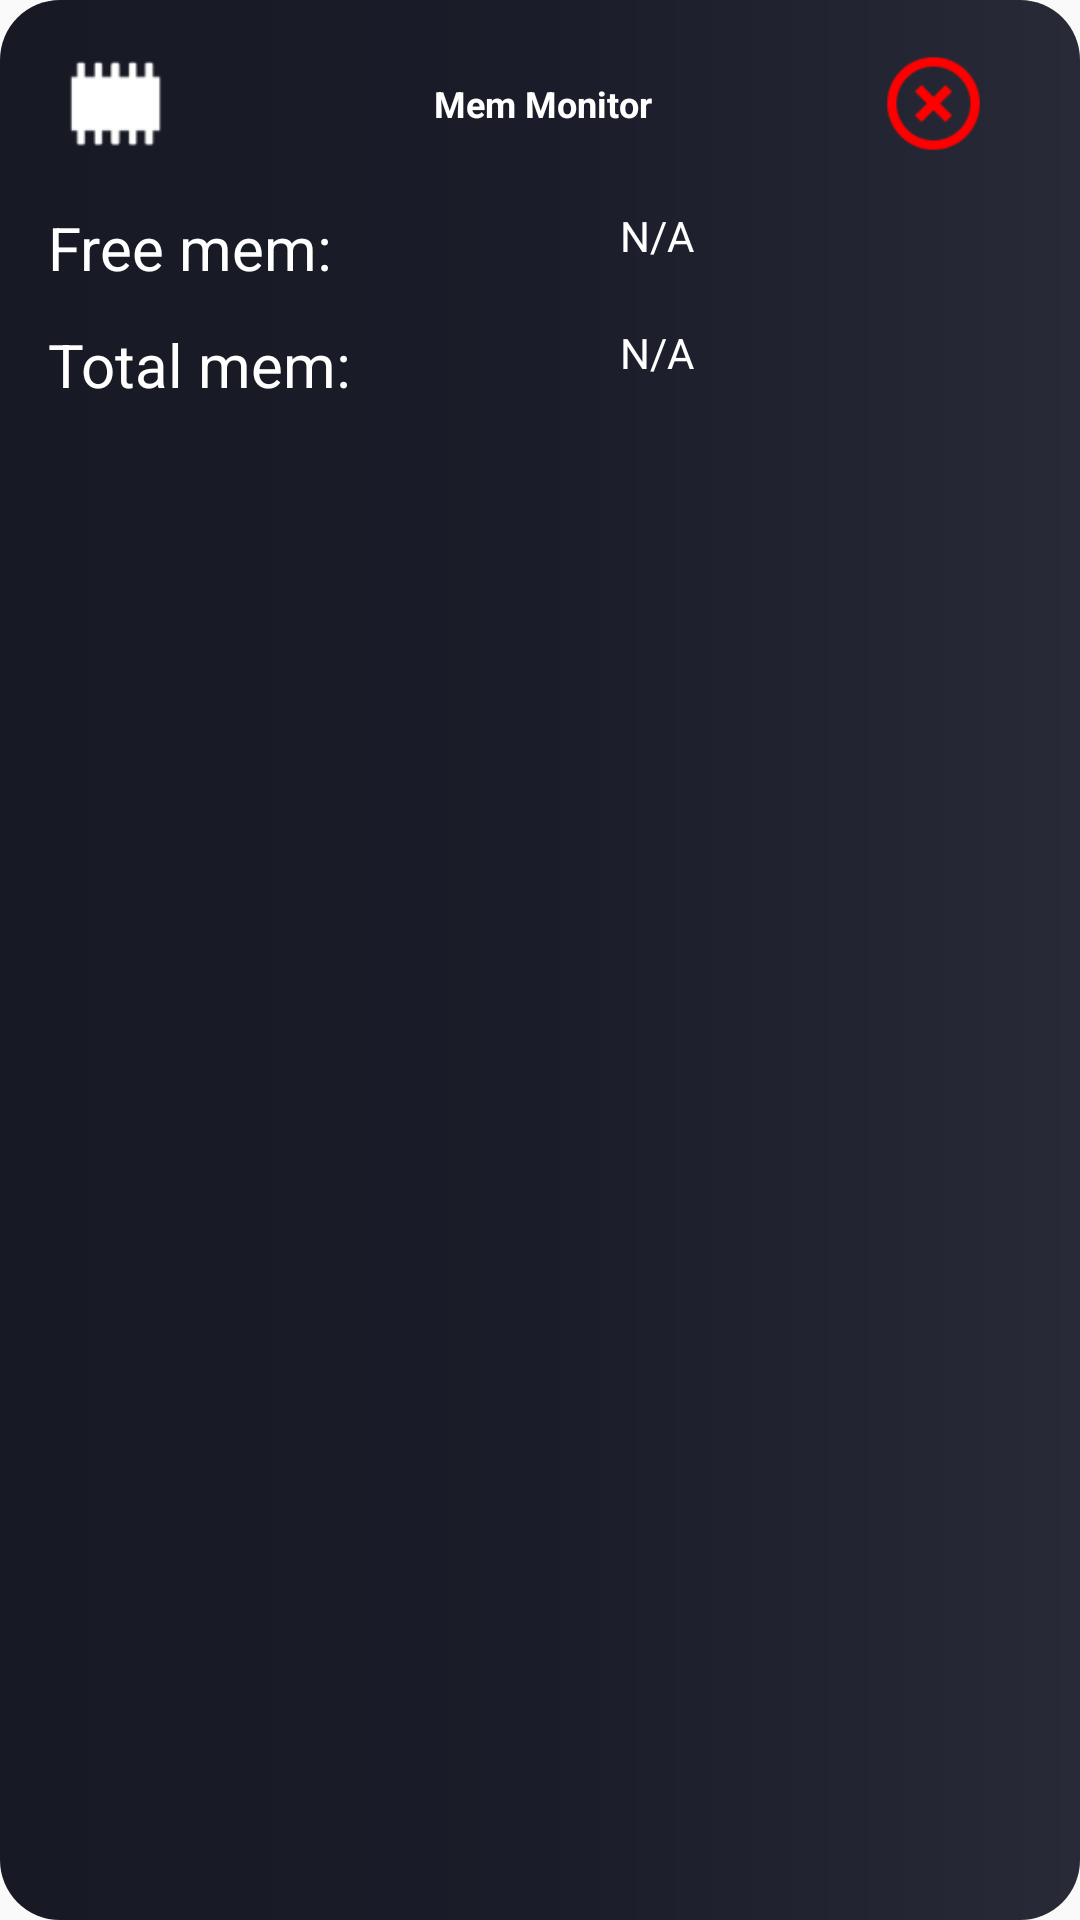

Icons on this 1080×1920 Android screen, each with the point to tap as point (x, y):
close: point (933, 103)
memory ram: point (115, 103)
